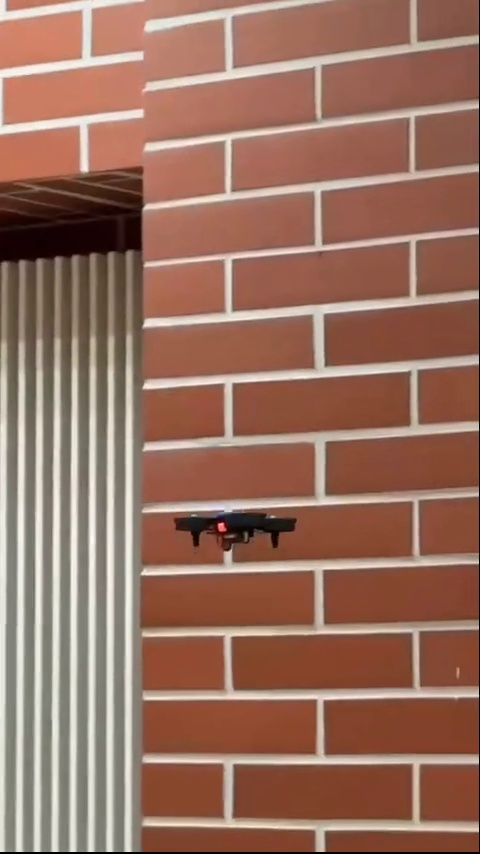drone: (164, 501, 306, 558)
